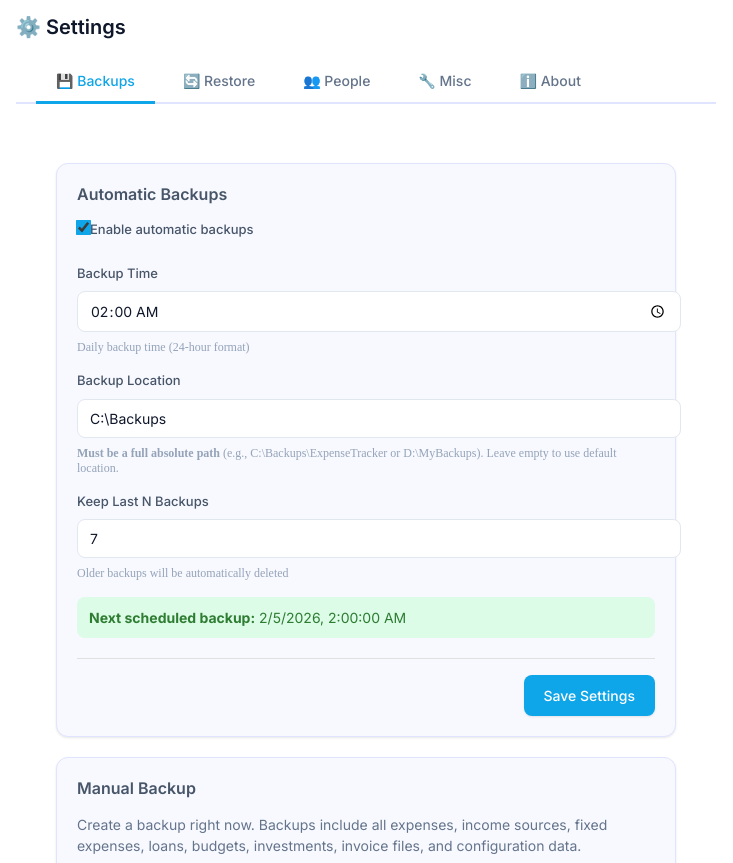
Test case: BackupSettings - Retention Settings UI › Validation errors › should display validation error for maxAgeDays above maximum
Click the button "🔧 Misc" at (445,82), box [398,60,492,104]
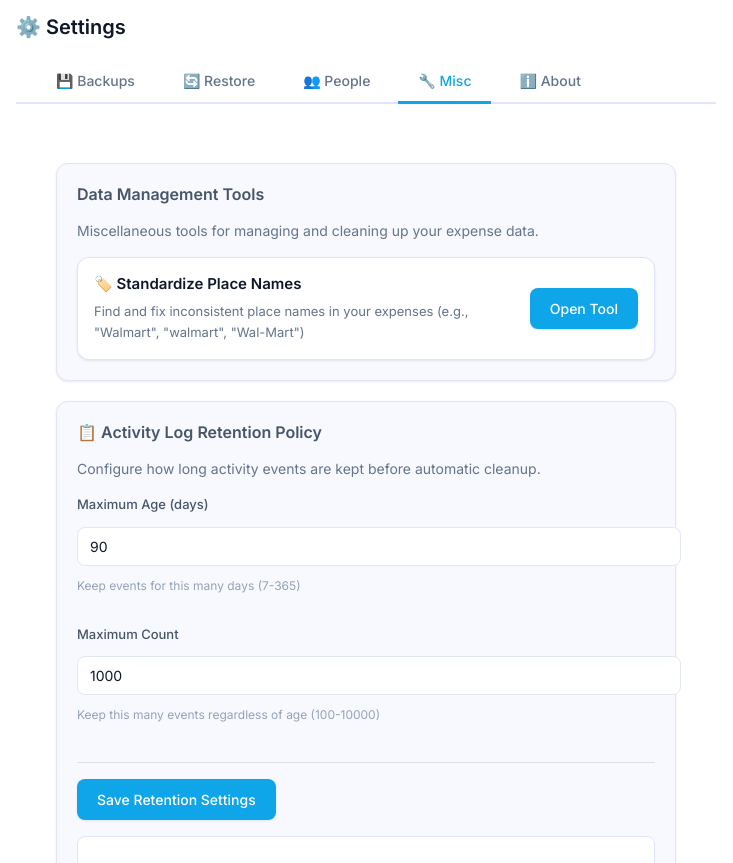
Now the number field labelled "Maximum Age (days)" is shown
# Set invalid value
Replace the text in the number field labelled "Maximum Age (days)" with "400" at (379,546), box [77,527,681,566]
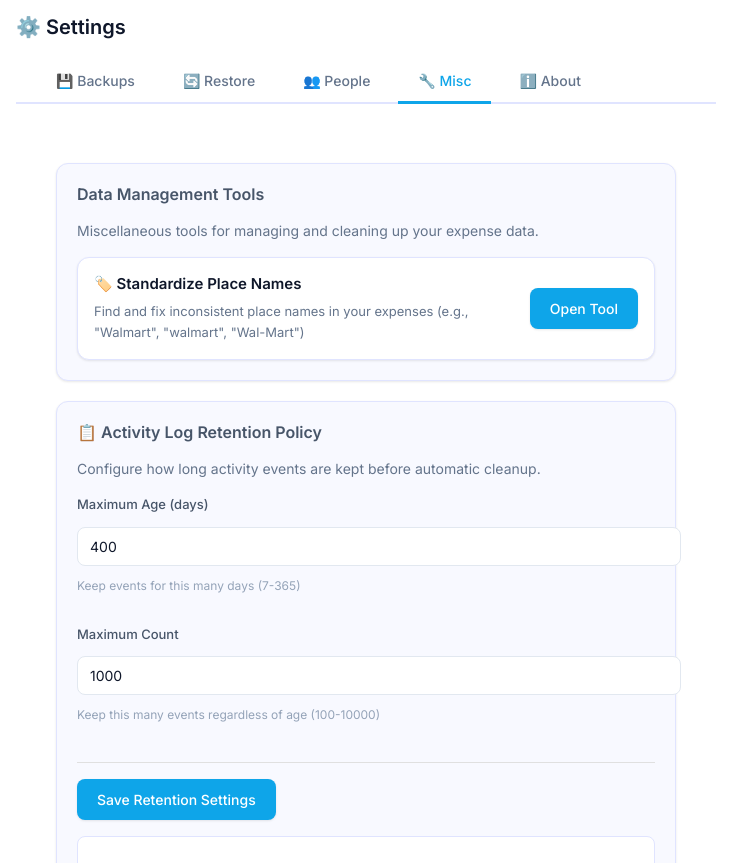
Click the button "Save Retention Settings" at (176,800), box [77,779,276,820]
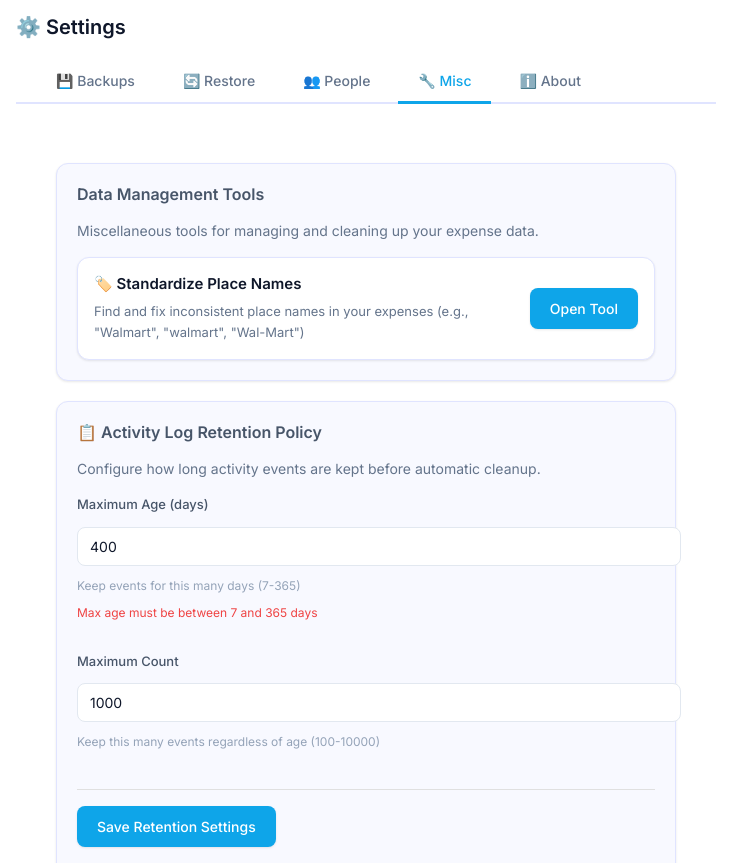
Now the text "Max age must be between 7 and 365 days" is shown, box [77,605,318,620]
